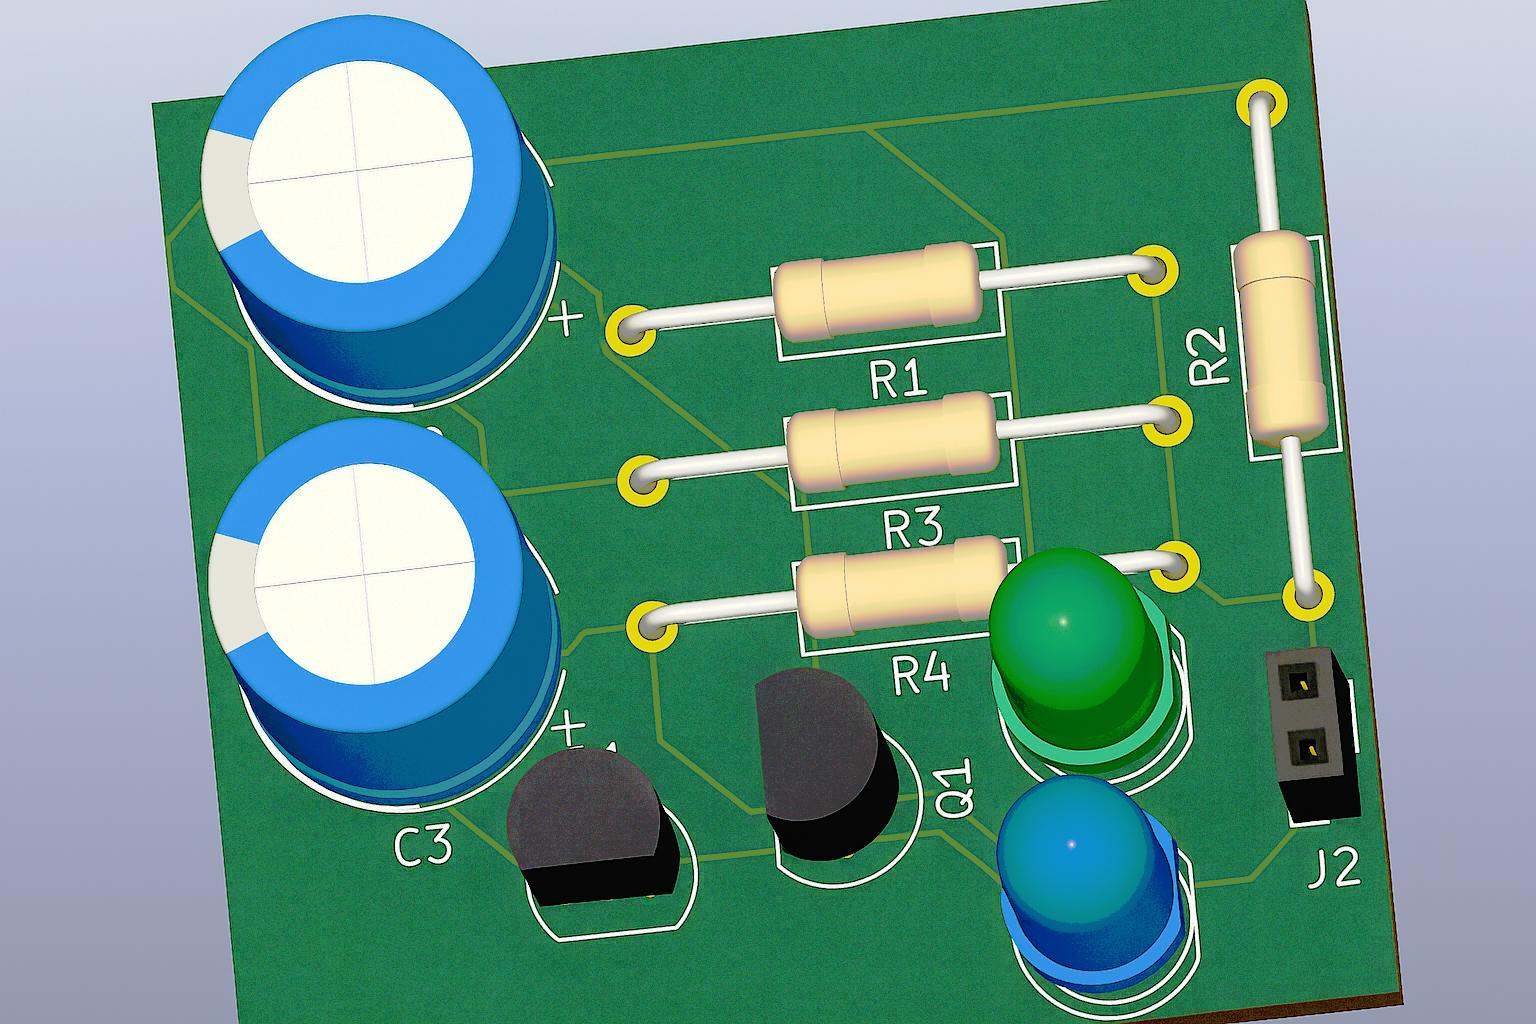blue_led: (983, 782, 1205, 1009)
capacitor: (199, 415, 578, 813), (195, 11, 575, 409)
green_led: (982, 546, 1193, 792)
resistor: (1233, 222, 1331, 466), (774, 237, 989, 343), (784, 390, 999, 496), (792, 527, 1007, 632)
transistor: (507, 736, 686, 927), (750, 667, 927, 858)
